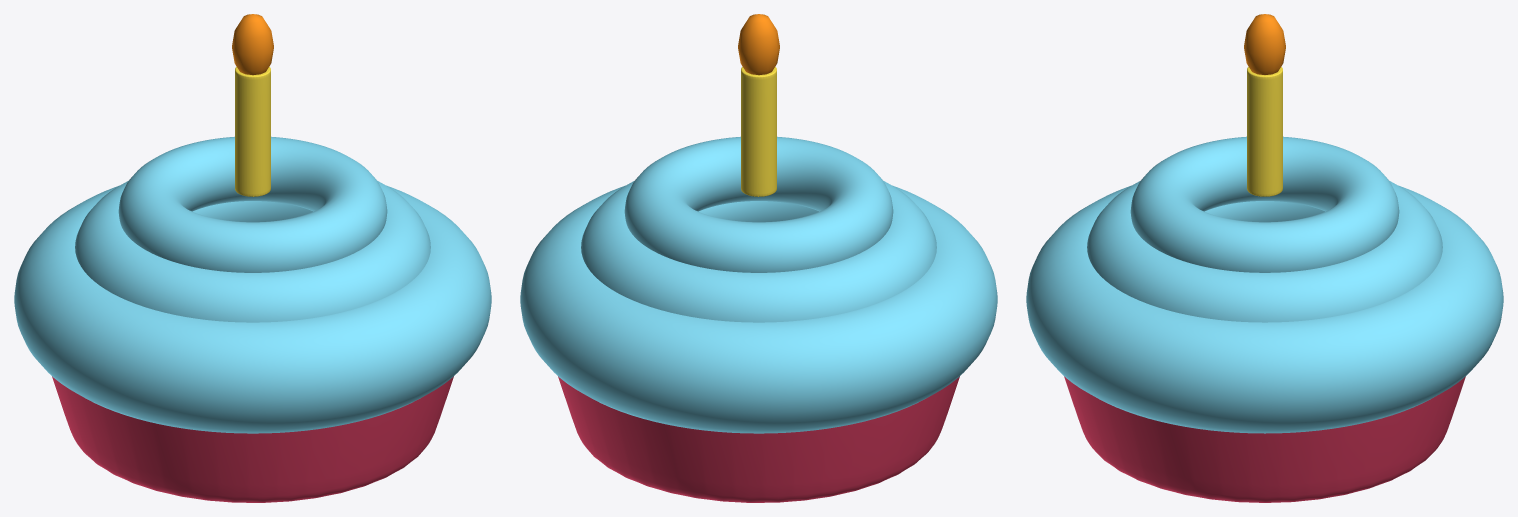
Rendered from Hat_Cupcake.glb.
3 renders of one model, left to right at view 1: azimuth 30°, elevation 25°; view 2: azimuth 150°, elevation 25°; view 3: azimuth 270°, elevation 25°, orthographic.
Parts seen in each view (by area): view 1: Torus, Torus.002, Cone, Torus.001, Cylinder, flame; view 2: Torus, Torus.002, Cone, Torus.001, Cylinder, flame; view 3: Torus, Torus.002, Cone, Torus.001, Cylinder, flame.
Part boxes in pixels (x1=…): Torus: x1=14, y1=185, x2=491, y2=433; Torus.002: x1=118, y1=136, x2=387, y2=272; Cone: x1=52, y1=376, x2=453, y2=502; Torus.001: x1=75, y1=181, x2=430, y2=322; Cylinder: x1=235, y1=67, x2=270, y2=196; flame: x1=232, y1=14, x2=273, y2=75; Torus: x1=520, y1=185, x2=997, y2=433; Torus.002: x1=624, y1=136, x2=893, y2=272; Cone: x1=558, y1=376, x2=959, y2=502; Torus.001: x1=581, y1=181, x2=936, y2=322; Cylinder: x1=741, y1=67, x2=776, y2=196; flame: x1=738, y1=14, x2=779, y2=75; Torus: x1=1026, y1=185, x2=1503, y2=433; Torus.002: x1=1130, y1=136, x2=1399, y2=272; Cone: x1=1064, y1=376, x2=1465, y2=502; Torus.001: x1=1087, y1=181, x2=1442, y2=322; Cylinder: x1=1247, y1=67, x2=1282, y2=196; flame: x1=1244, y1=14, x2=1285, y2=74.
Bounding box in the file's own units: 0.7888 × 0.76 × 0.7888.
